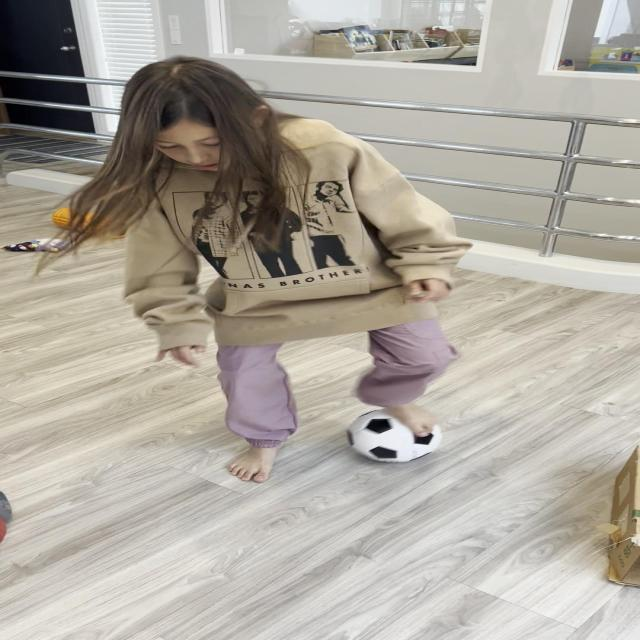Soccer Ball: (347, 408, 442, 462)
